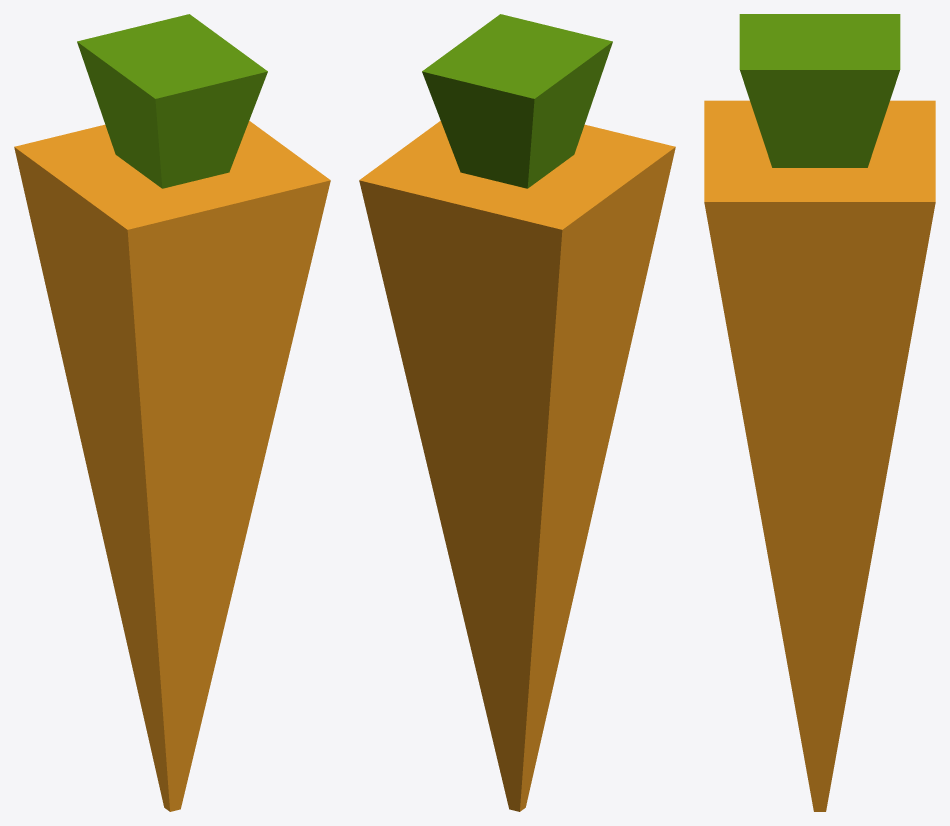
Rendered from herb3.fbx.
3 renders of one model, left to right at view 1: azimuth 30°, elevation 25°; view 2: azimuth 150°, elevation 25°; view 3: azimuth 270°, elevation 25°, orthographic. The views are drawn at different scales.
Visible parts, largest first — view 1: Cube_9; view 2: Cube_9; view 3: Cube_9.
Part boxes in pixels (x1,y1,x2,y2): Cube_9: [14, 14, 330, 811]; Cube_9: [359, 14, 675, 811]; Cube_9: [704, 14, 935, 811].
Bounding box in the file's own units: 16.55 × 58.53 × 16.01.
